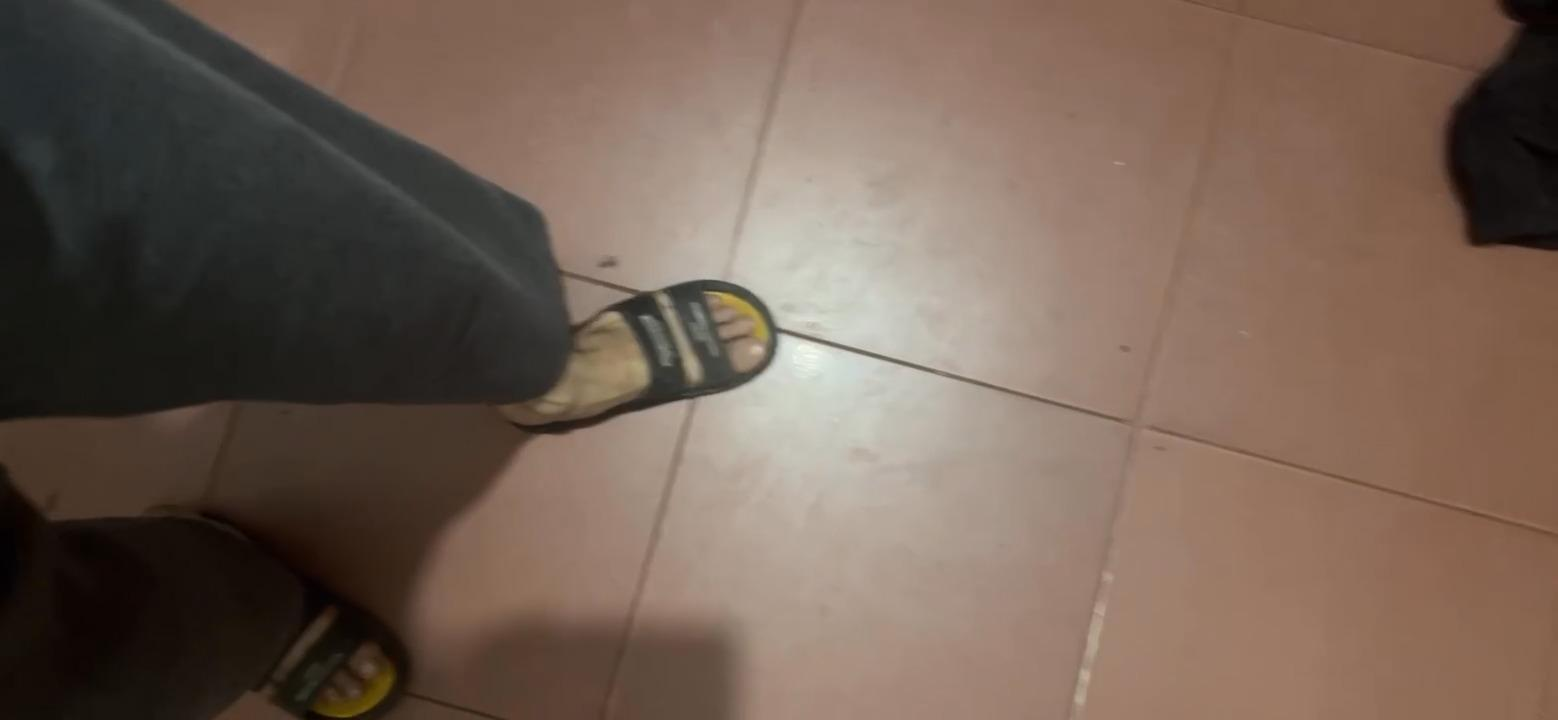no-boot: (507, 277, 778, 422)
